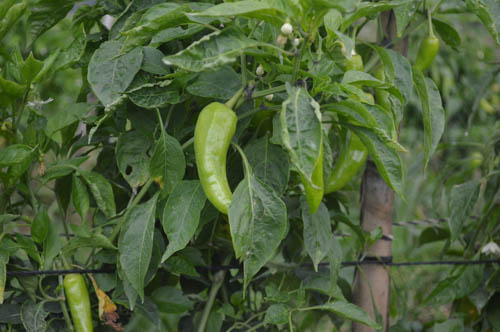ChiliPepper: (192, 102, 236, 210), (324, 132, 371, 200), (62, 273, 94, 332), (298, 151, 326, 214), (416, 37, 439, 77)
